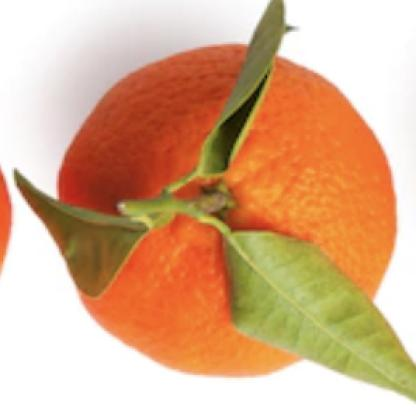fresh: (41, 41, 395, 382)
